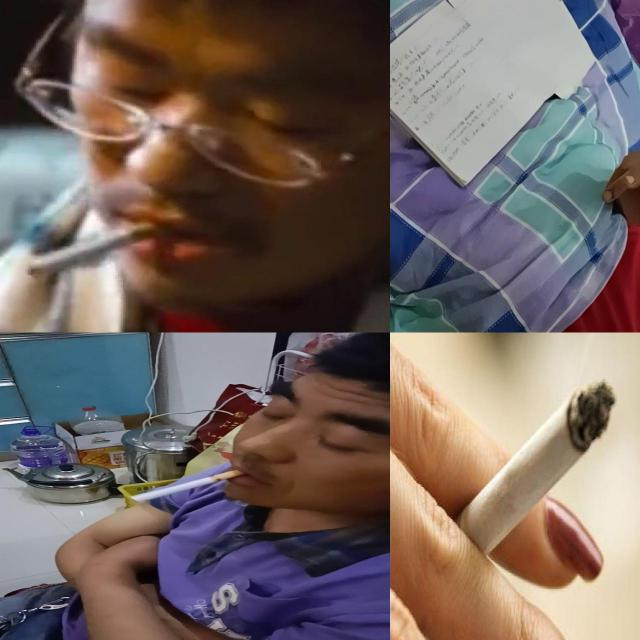smoke: (422, 377, 618, 596), (24, 214, 174, 278), (132, 470, 246, 502)
